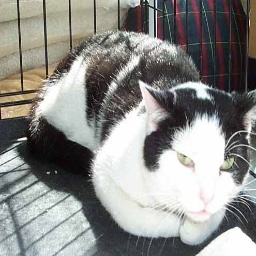cat: (28, 23, 251, 244)
